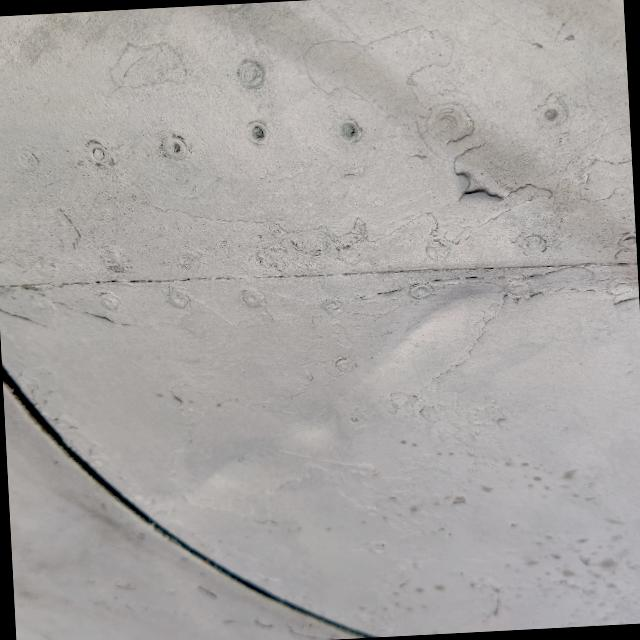dent: (335, 263, 526, 428), (169, 408, 286, 530)
